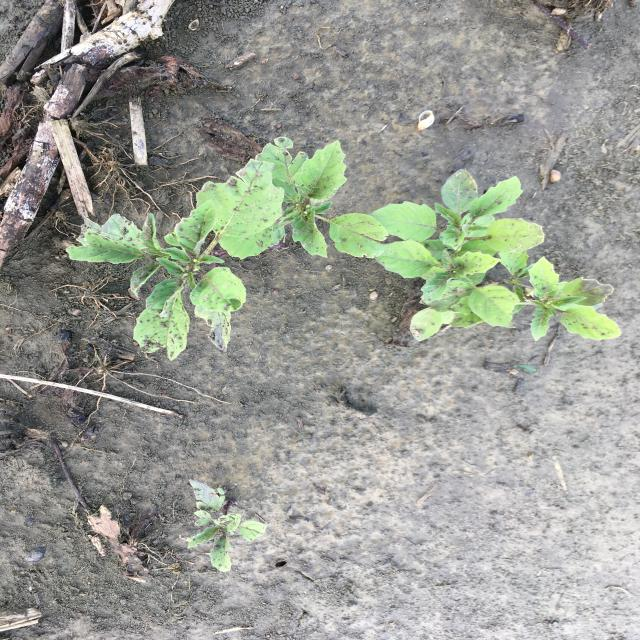CutleafGroundcherry: (63, 135, 625, 360), (178, 477, 270, 573)
